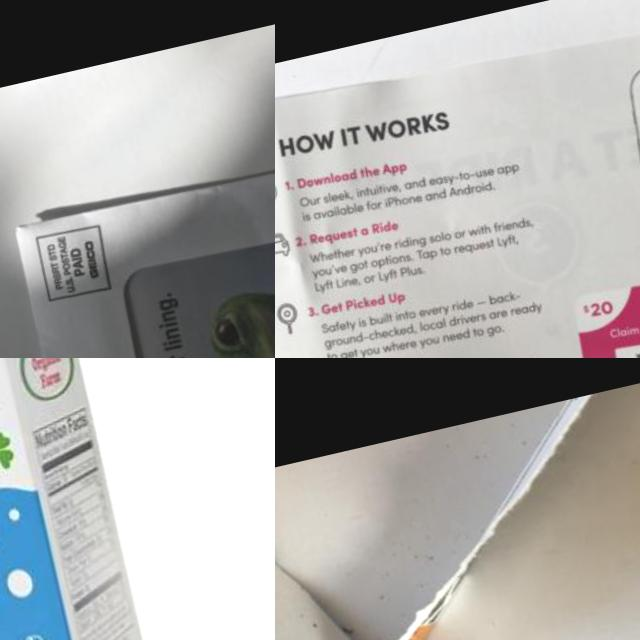caixinha: (0, 358, 158, 640)
papel: (275, 0, 640, 358), (275, 358, 640, 640), (6, 116, 275, 358)
